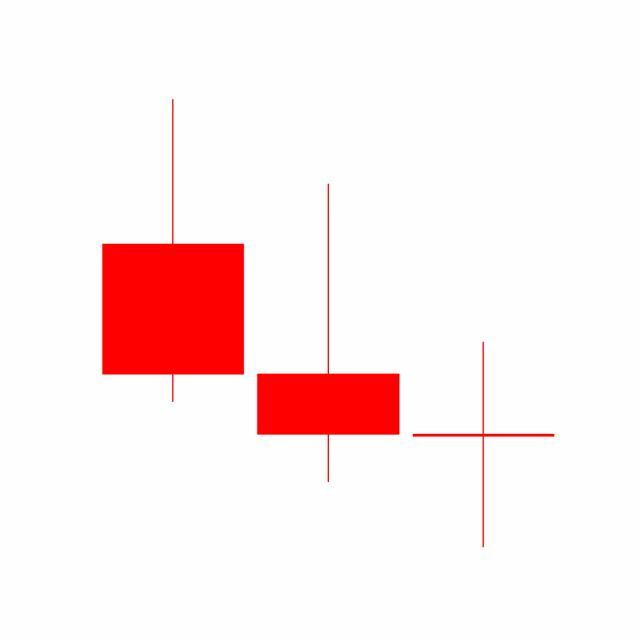Spinning Top: (406, 340, 562, 550)
